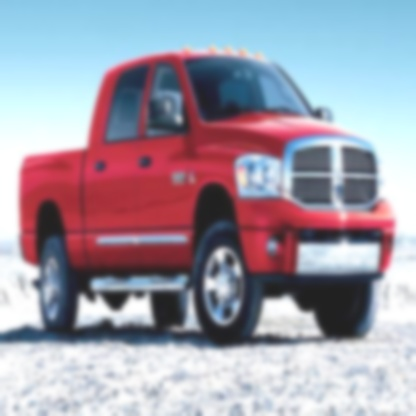Vehicle: (20, 46, 394, 347)
